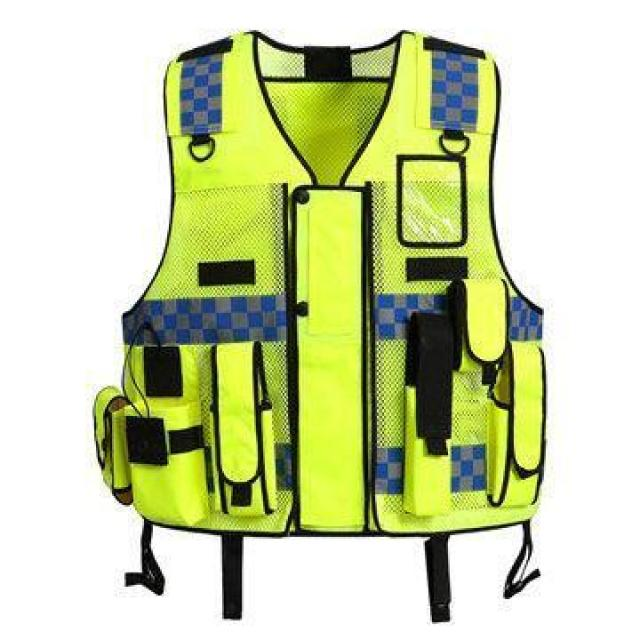Vest: (89, 28, 549, 540)
